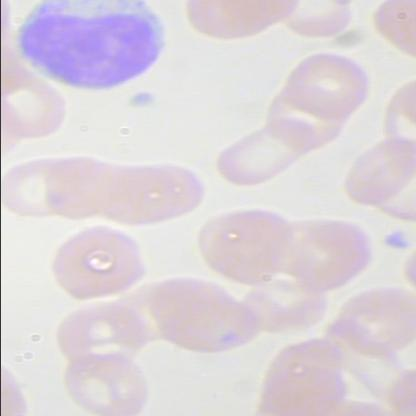Platelets: (122, 87, 156, 113), (374, 230, 412, 252)
RBC: (204, 114, 320, 191), (190, 207, 292, 292), (50, 224, 150, 306), (50, 298, 152, 369), (280, 216, 372, 294), (282, 50, 374, 120), (262, 82, 354, 152), (59, 348, 154, 415), (332, 284, 415, 357), (43, 154, 125, 223), (342, 134, 416, 208), (1, 154, 80, 222), (99, 162, 182, 226), (1, 75, 69, 142)
WBC: (10, 1, 178, 93)
